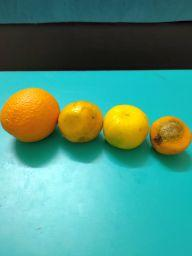orange: (0, 87, 60, 144), (103, 104, 149, 151), (58, 100, 104, 146), (149, 115, 192, 155)
